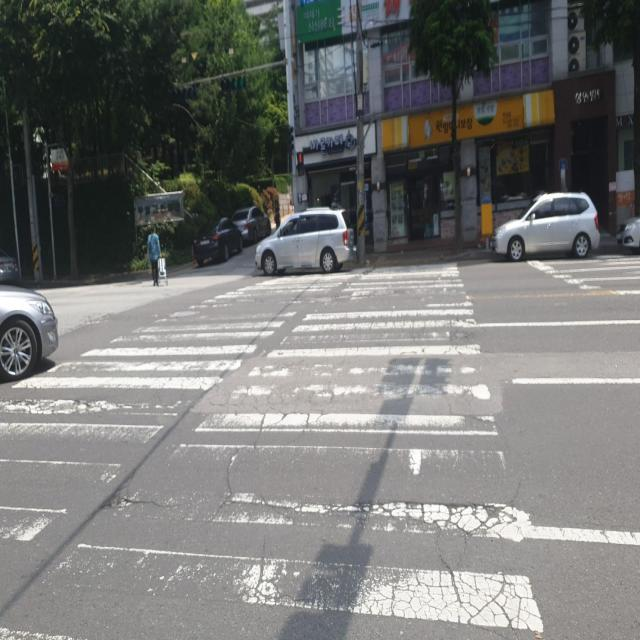빨간불: (296, 152, 304, 178)
횡단보도: (0, 257, 543, 638)
